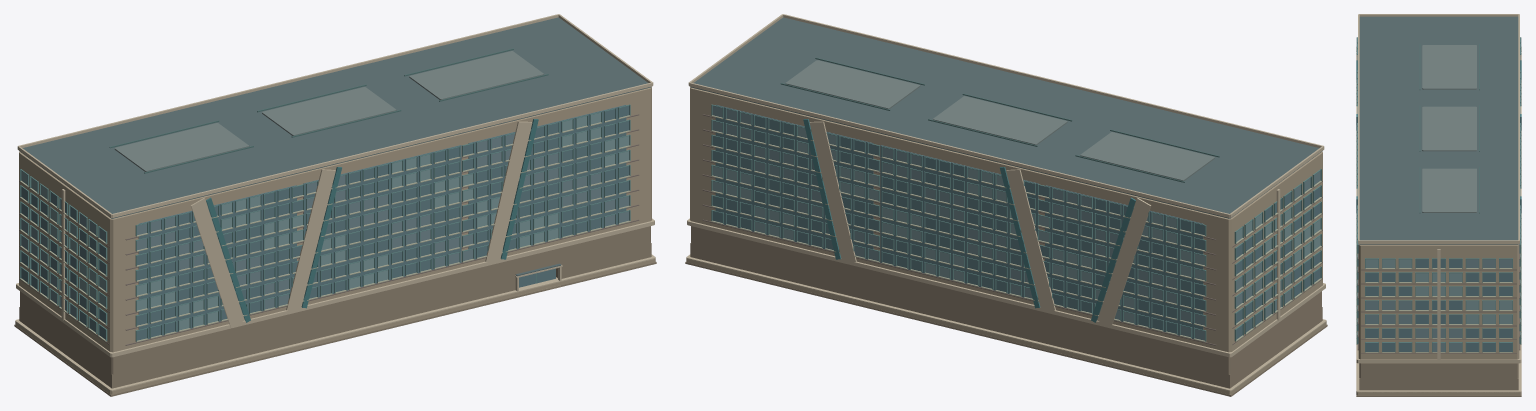
Rendered from complex.glb.
3 renders of one model, left to right at view 1: azimuth 30°, elevation 25°; view 2: azimuth 150°, elevation 25°; view 3: azimuth 270°, elevation 25°, orthographic. The views are drawn at different scales.
Visible parts, largest first — view 1: form, glaze, relief, glowing; view 2: form, glaze, relief, glowing; view 3: form, glaze, relief, glowing.
Part boxes in pixels (x1,y1,x2,y2): form: (14,14,656,396); glaze: (21,105,629,340); relief: (20,104,630,342); glowing: (31,119,629,330); form: (685,14,1327,396); glaze: (712,105,1320,340); relief: (711,104,1321,342); glowing: (726,124,1320,318); form: (1356,14,1521,396); glaze: (1357,39,1520,351); relief: (1356,37,1521,352); glowing: (1358,259,1512,351).
Bounding box in the file's own units: 98 × 31 × 30.
